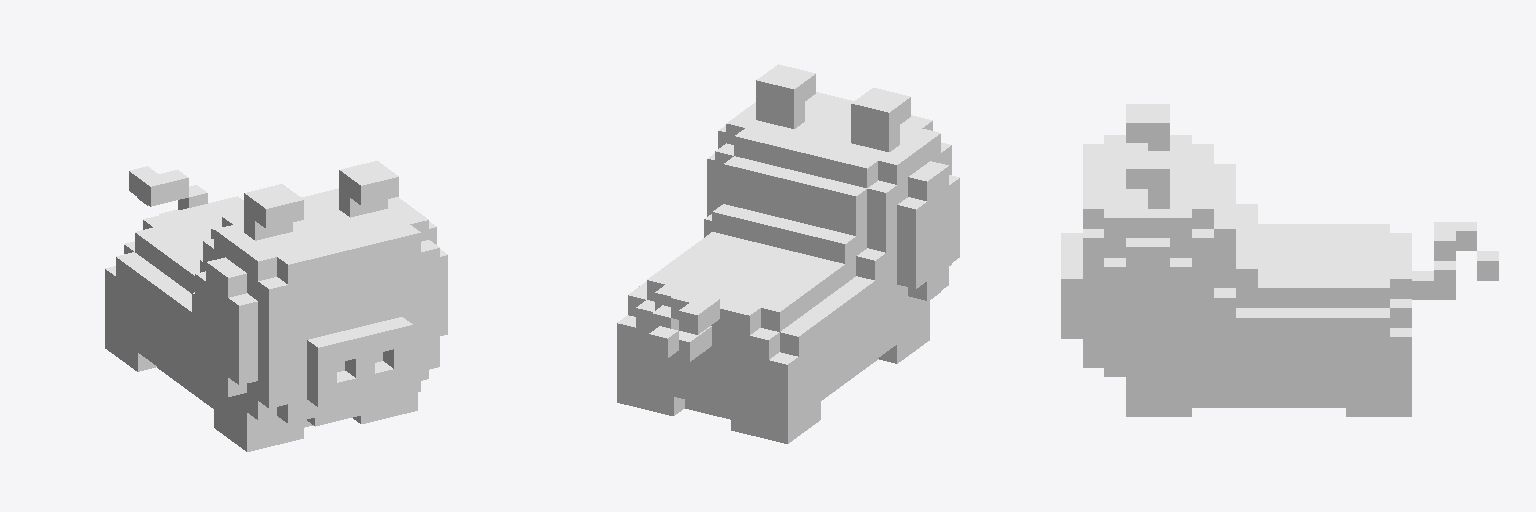
The model's file is Pig-4.obj.
The picture shows the model from 3 angles: view 1: azimuth 30°, elevation 25°; view 2: azimuth 150°, elevation 25°; view 3: azimuth 270°, elevation 25°; orthographic projection.
Visible parts, largest first — view 1: object 1; view 2: object 1; view 3: object 1.
Boxes of the visible parts, <box> form: object 1: <box>105,161,447,451</box>; object 1: <box>617,64,959,443</box>; object 1: <box>1061,104,1498,416</box>.
Bounding box in the file's own units: 1.1 × 1.2 × 2.